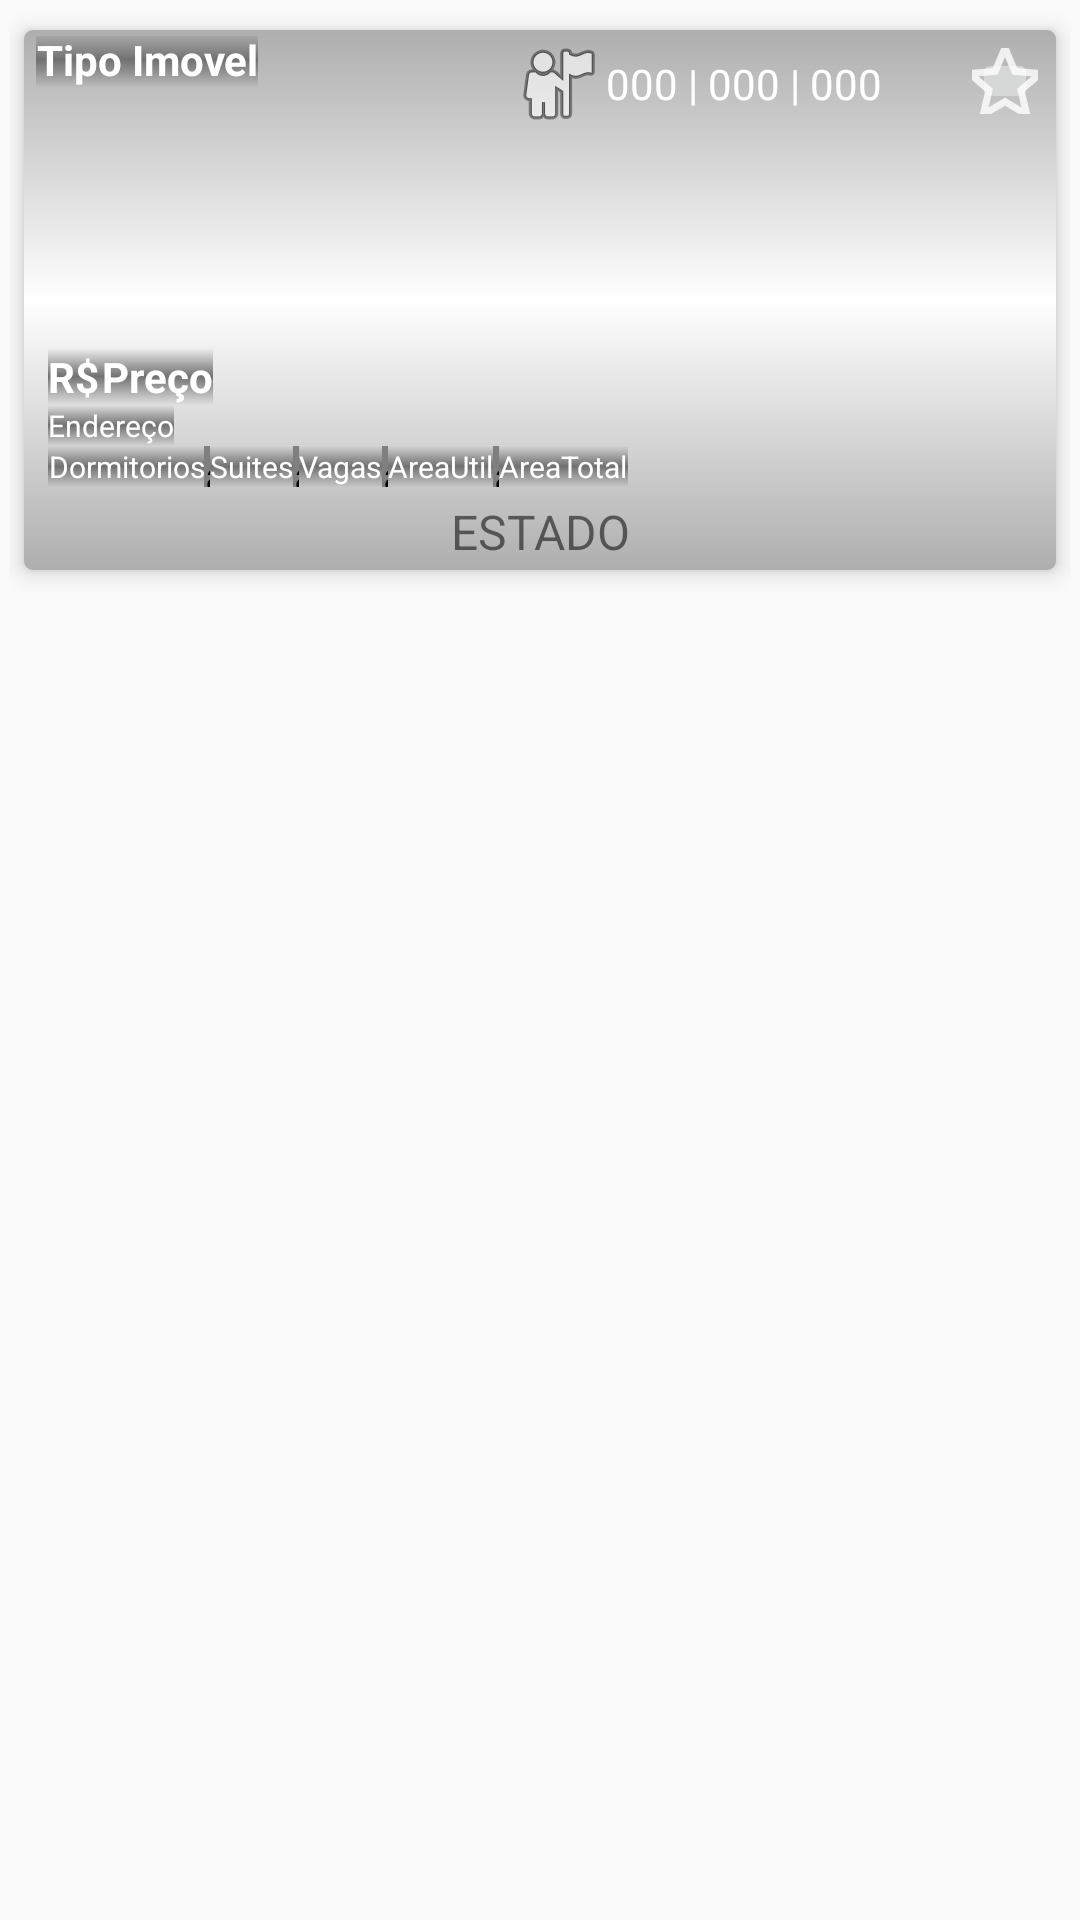

Where icons sit on this 1080px x 1920px app screen, as box=[x1, y1, x2, y2]:
myplaces: box=[510, 36, 606, 120]
star: box=[972, 48, 1038, 114]
